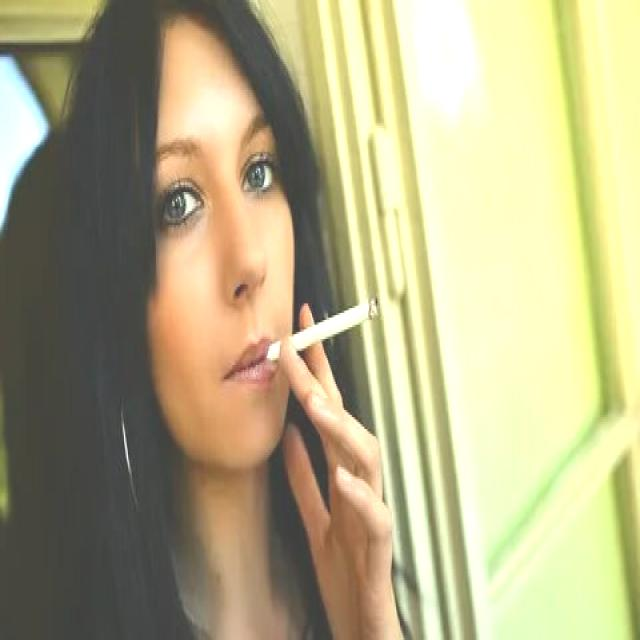cigarette: (264, 289, 380, 372)
